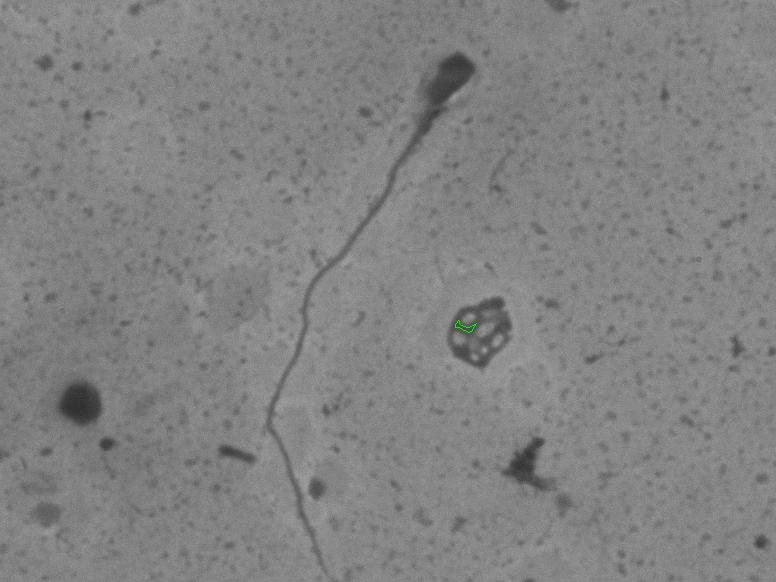Abnormal: (254, 32, 491, 570)
